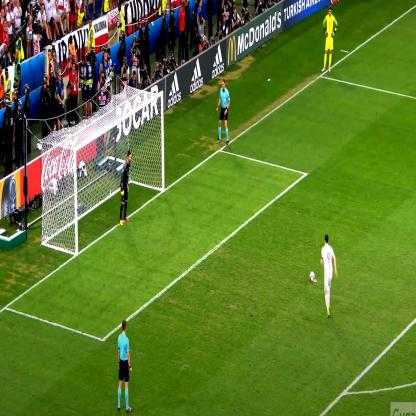penalty kick: (38, 104, 346, 322)
